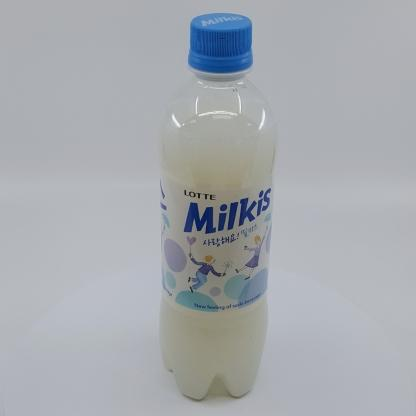-----500ML: (157, 13, 279, 400)
